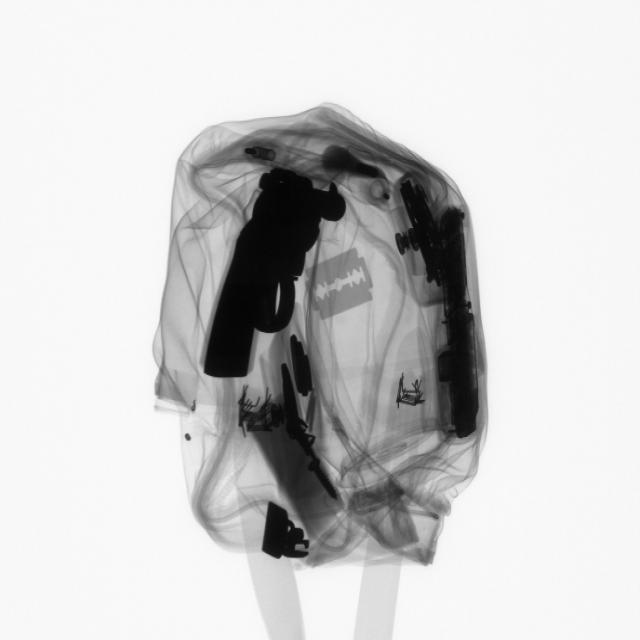BLADE: (304, 243, 382, 333)
GUN: (199, 167, 346, 387)
SCREW: (299, 454, 353, 507)
